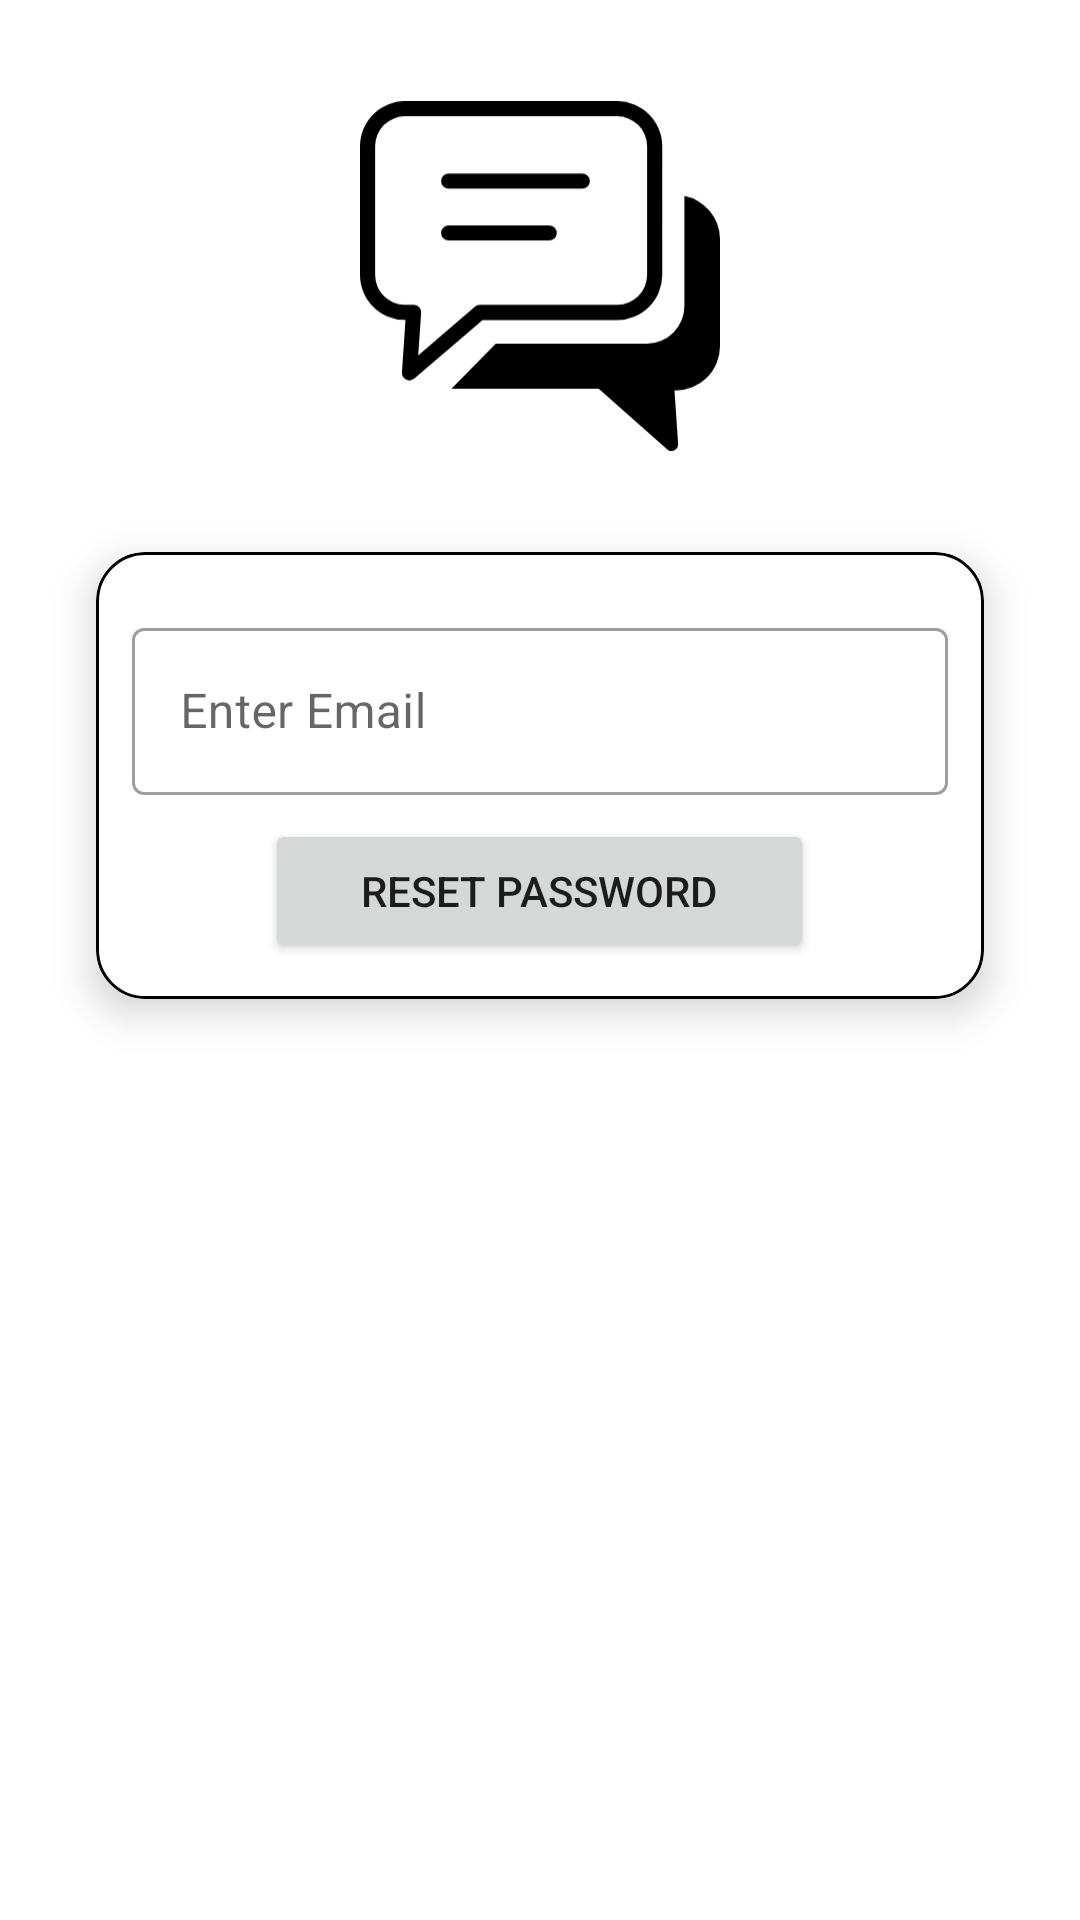

Named icons in this screenshot (1080px x 1920px) and their bounding boxes, (x1, y1, x2, y2):
chat box: (360, 101, 720, 451)
